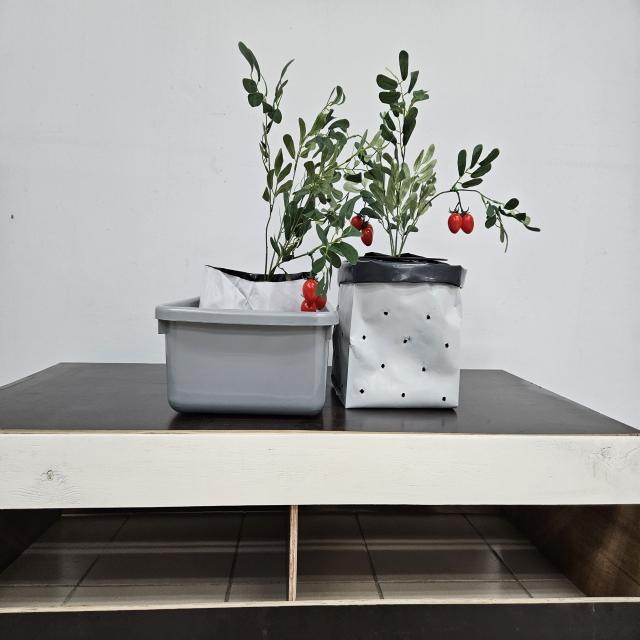Soilbag: (335, 255, 466, 412), (185, 266, 324, 359)
Tomato: (447, 191, 474, 237), (301, 276, 329, 312), (351, 214, 374, 246)
plant: (350, 51, 540, 258), (239, 42, 373, 313)
